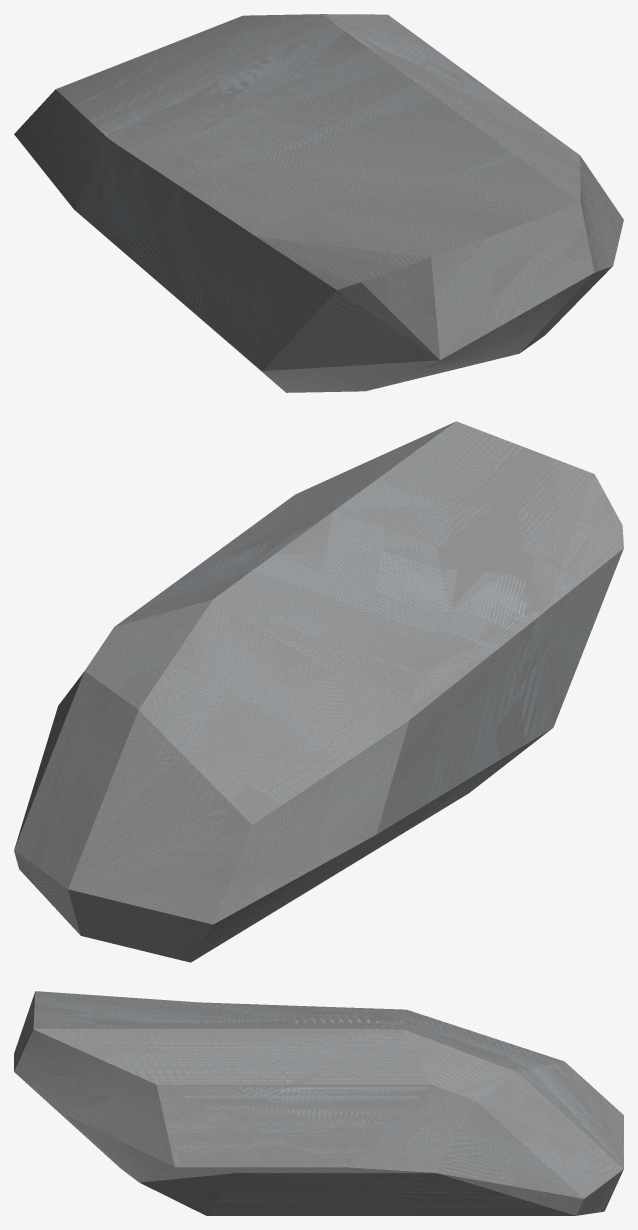
File: Stone8.fbx
3 renders of one model, top to bottom at view 1: azimuth 30°, elevation 25°; view 2: azimuth 150°, elevation 25°; view 3: azimuth 270°, elevation 25°, orthographic. The views are drawn at different scales.
Visible parts, largest first — view 1: StoneLand1; view 2: StoneLand1; view 3: StoneLand1.
Part boxes in pixels (x1=…): StoneLand1: x1=14, y1=14, x2=623, y2=392; StoneLand1: x1=14, y1=421, x2=623, y2=962; StoneLand1: x1=14, y1=991, x2=623, y2=1215.
Size of the model in its own units: 435 by 300 by 910.
